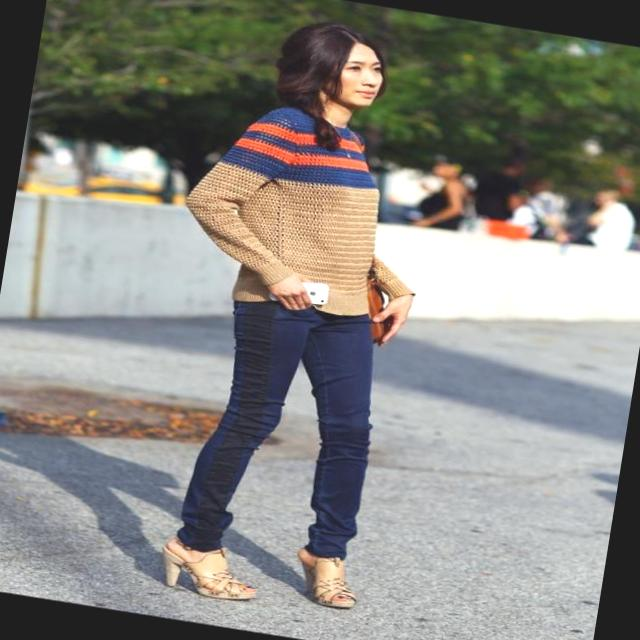pants: (175, 280, 393, 572)
sweater: (172, 94, 442, 329)
